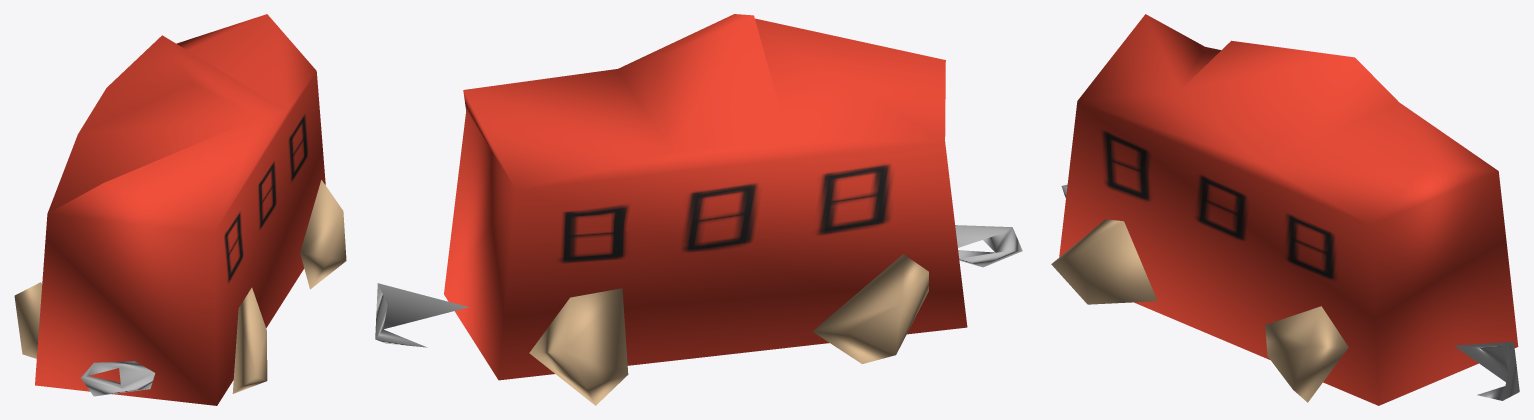
File: red_LOD2.fbx
The picture shows the model from 3 angles, left to right: view 1: azimuth 30°, elevation 25°; view 2: azimuth 150°, elevation 25°; view 3: azimuth 270°, elevation 25°; orthographic projection. The views are drawn at different scales.
Parts seen in each view (by area): view 1: vagonefinale; view 2: vagonefinale; view 3: vagonefinale.
Part boxes in pixels (x1=…): vagonefinale: x1=14, y1=14, x2=346, y2=405; vagonefinale: x1=375, y1=14, x2=1022, y2=405; vagonefinale: x1=1051, y1=14, x2=1519, y2=405.
Size of the model in its own units: 464 by 322 by 472.
2 materials, 1 textured.
